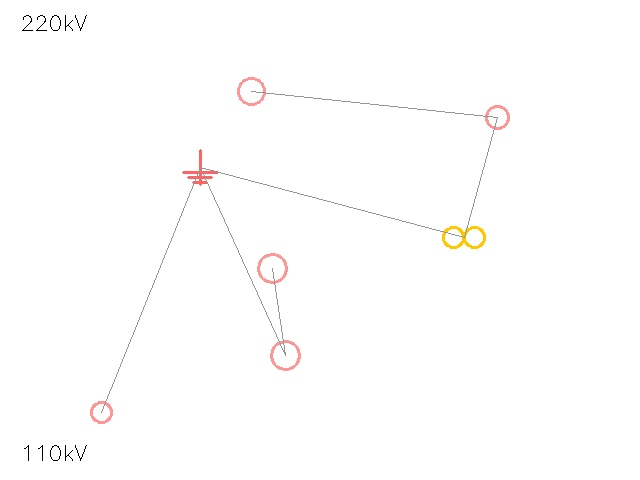current_transformer: (243, 239, 301, 297), (474, 94, 520, 140)
feeder_terminal: (80, 391, 122, 433)
fuse: (225, 65, 277, 117)
ground: (183, 150, 217, 184)
surge_arrester: (257, 327, 313, 383)
transformer_2w: (437, 210, 491, 264)
